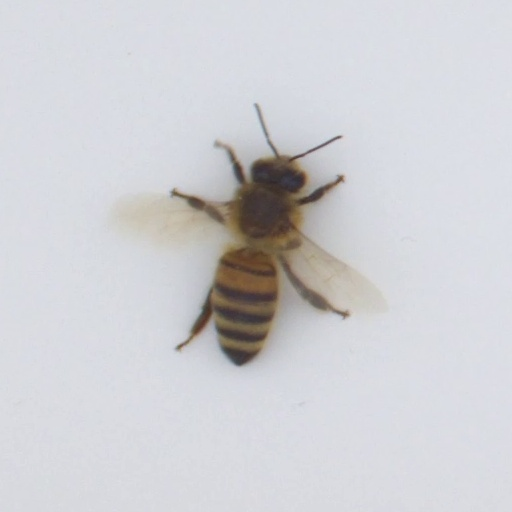Bee: (210, 155, 304, 356)
Thorax: (224, 188, 297, 247)
